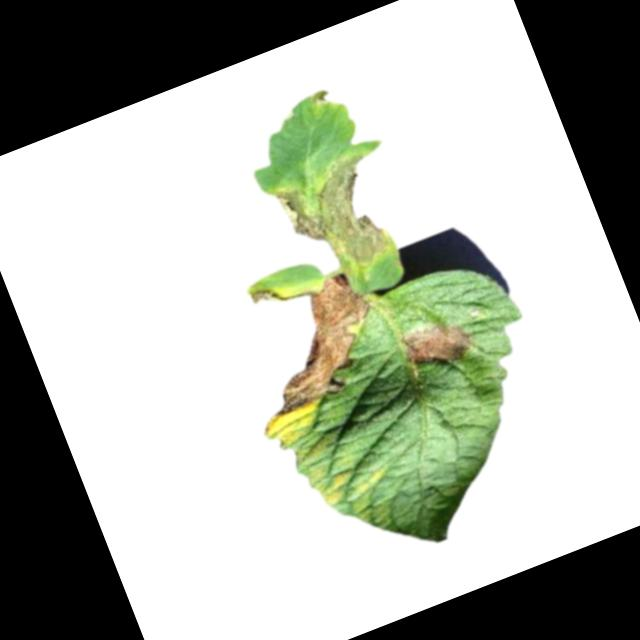Late_blight: (241, 266, 396, 422), (266, 144, 405, 290), (397, 310, 476, 376), (248, 279, 293, 314), (306, 85, 338, 114)
